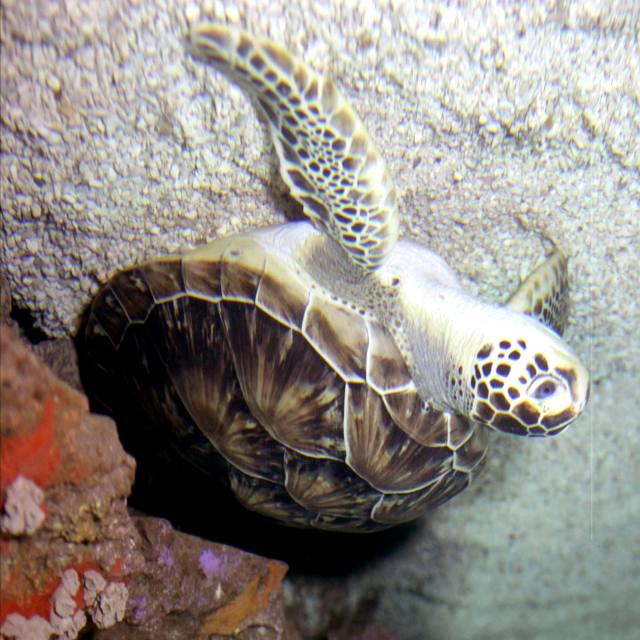Sea turtle: (67, 23, 592, 540)
